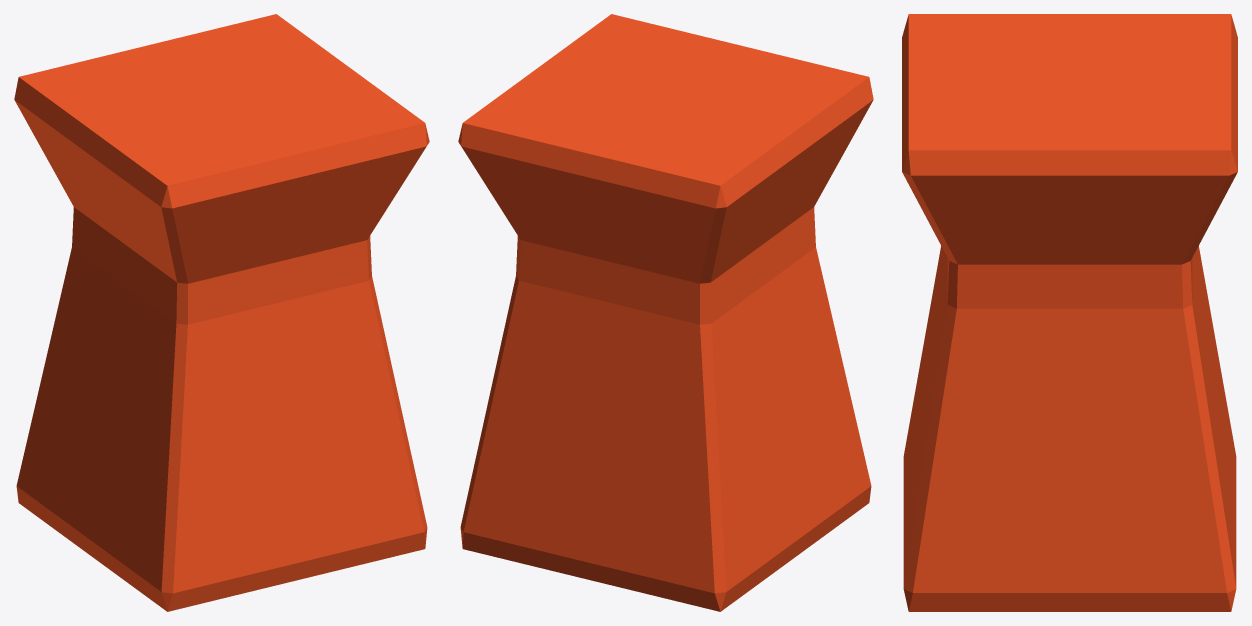
The model's file is token_quad_small.fbx.
3 renders of one model, left to right at view 1: azimuth 30°, elevation 25°; view 2: azimuth 150°, elevation 25°; view 3: azimuth 270°, elevation 25°, orthographic. The views are drawn at different scales.
Visible parts, largest first — view 1: token_quad_small_1; view 2: token_quad_small_1; view 3: token_quad_small_1.
Part boxes in pixels (bbox=[...]): token_quad_small_1: bbox=[14, 14, 429, 611]; token_quad_small_1: bbox=[458, 14, 873, 611]; token_quad_small_1: bbox=[902, 14, 1237, 611].
Size of the model in its own units: 198 by 300 by 198.
